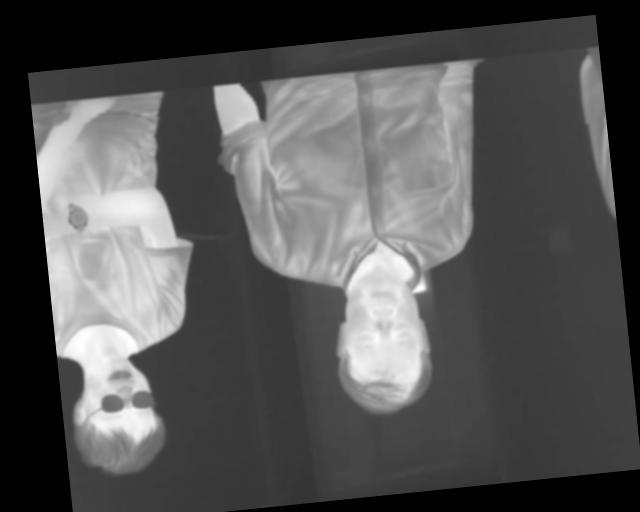face: (326, 265, 438, 420), (65, 351, 166, 481)
